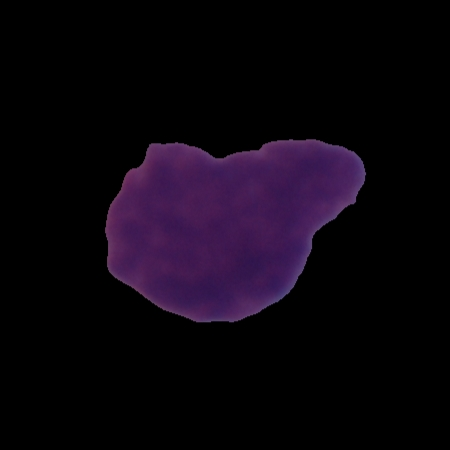ALL: (101, 134, 369, 326)
